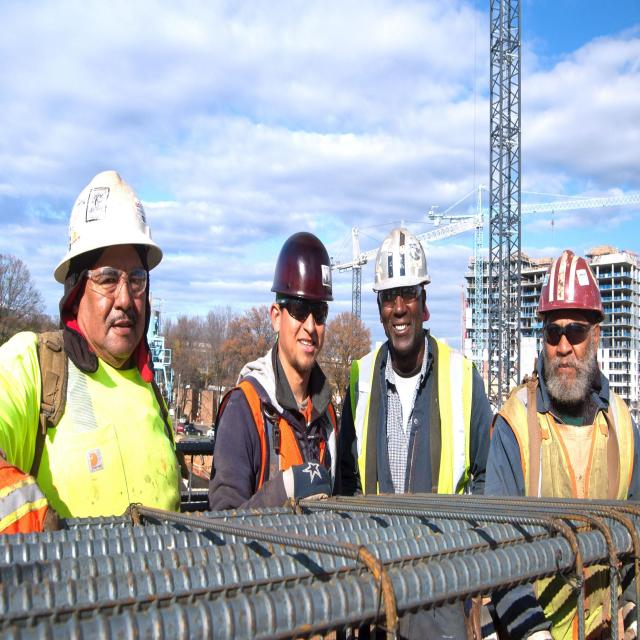Reflective-Jacket: (7, 327, 185, 522), (348, 337, 478, 500), (499, 375, 638, 508)
Safety-Helmet: (51, 165, 166, 284), (535, 246, 608, 321), (268, 227, 336, 304), (369, 222, 432, 294)
